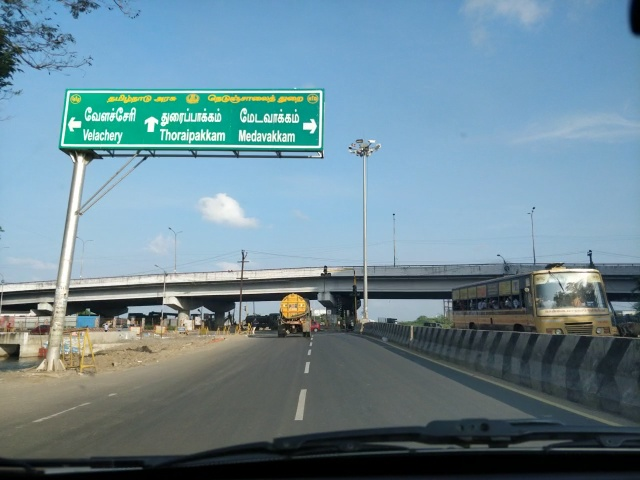bus: (450, 267, 620, 336)
truck: (279, 292, 311, 336)
